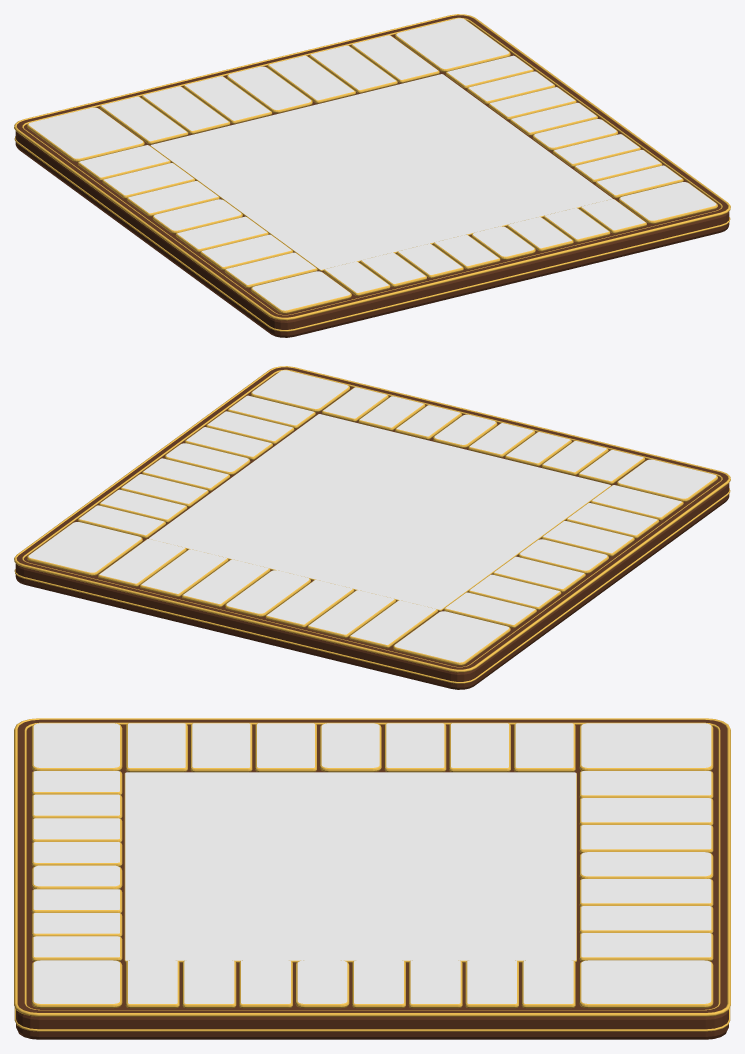
The model's file is board34-v01.glb.
The picture shows the model from 3 angles, top to bottom: view 1: azimuth 30°, elevation 25°; view 2: azimuth 150°, elevation 25°; view 3: azimuth 270°, elevation 25°; orthographic projection. The views are drawn at different scales.
Parts seen in each view (by area): view 1: CENTER_ART, BOARD_BODY, FRAME_GOLD, FRAME_OUTER_ROLLED_GOLD, TILE_START, TILE_OLYMPICS, TILE_AIRPORT, TILE_REST, FRAME_INNER_ROLLED_GOLD, TILE_AM, TILE_AP, TILE_RN (+28 smaller); view 2: CENTER_ART, BOARD_BODY, FRAME_GOLD, FRAME_OUTER_ROLLED_GOLD, TILE_START, TILE_OLYMPICS, TILE_AIRPORT, TILE_REST, FRAME_INNER_ROLLED_GOLD, TILE_RN, TILE_AP, TILE_RO (+28 smaller); view 3: CENTER_ART, BOARD_BODY, FRAME_GOLD, FRAME_OUTER_ROLLED_GOLD, TILE_OLYMPICS, TILE_START, TILE_REST, TILE_AIRPORT, FRAME_INNER_ROLLED_GOLD, TILE_RO, TILE_RR, TILE_AM (+28 smaller).
Part boxes in pixels (x1,y1,x2,y2): CENTER_ART: (150,74,612,271); BOARD_BODY: (15,21,729,337); FRAME_GOLD: (16,15,728,317); FRAME_OUTER_ROLLED_GOLD: (14,14,730,320); TILE_START: (27,107,144,161); TILE_OLYMPICS: (395,18,510,72); TILE_AIRPORT: (250,271,351,313); TILE_REST: (618,182,717,223); FRAME_INNER_ROLLED_GOLD: (22,17,722,315); TILE_AM: (141,86,230,134); TILE_AP: (267,55,355,103); TILE_RN: (99,96,188,144); CENTER_ART: (148,414,610,611); BOARD_BODY: (15,373,729,689); FRAME_GOLD: (16,367,728,669); FRAME_OUTER_ROLLED_GOLD: (14,366,730,672); TILE_START: (393,611,510,665); TILE_OLYMPICS: (27,522,142,575); TILE_AIRPORT: (617,459,717,501); TILE_REST: (250,370,349,412); FRAME_INNER_ROLLED_GOLD: (22,369,722,667); TILE_RN: (349,600,437,648); TILE_AP: (181,559,270,607); TILE_RO: (98,539,186,586); CENTER_ART: (124,772,576,962); BOARD_BODY: (16,724,728,1039); FRAME_GOLD: (17,719,727,1012); FRAME_OUTER_ROLLED_GOLD: (14,718,730,1016); TILE_OLYMPICS: (579,960,713,1008); TILE_START: (579,723,713,770); TILE_REST: (31,960,122,1008); TILE_AIRPORT: (31,723,122,770); FRAME_INNER_ROLLED_GOLD: (24,722,720,1010); TILE_RO: (579,933,713,961); TILE_RR: (579,825,713,853); TILE_AM: (579,798,713,825).
Bounding box in the file's own units: 12.09 × 0.585 × 12.36.
